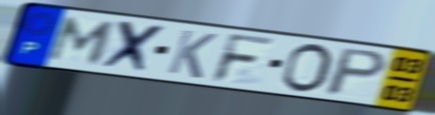F: (208, 31, 279, 85)
K: (164, 28, 220, 81)
M: (44, 15, 120, 66)
O: (278, 42, 335, 95)
P: (321, 46, 390, 98)
X: (96, 18, 169, 77)
